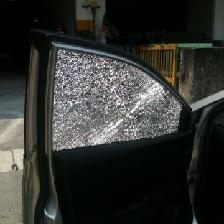broken_glass: (3, 15, 205, 189)
